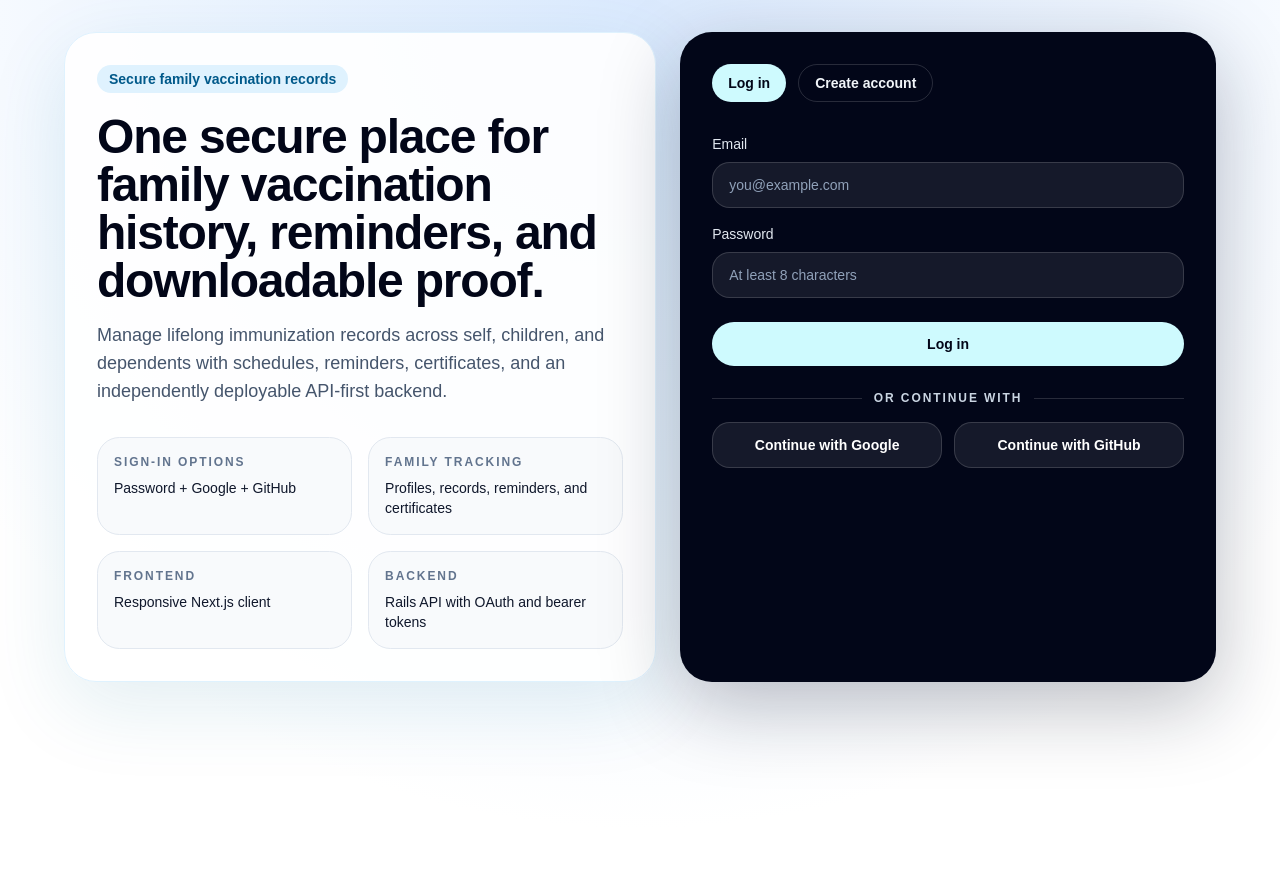
AuthShell › completes oauth sign-in from a popup message
This screenshot has width=1280, height=884.
What coordinates should you click on to do the following:
click the button "Continue with Google"
I would click on:
 (827, 445)
Its box is 712,422 -> 942,468.
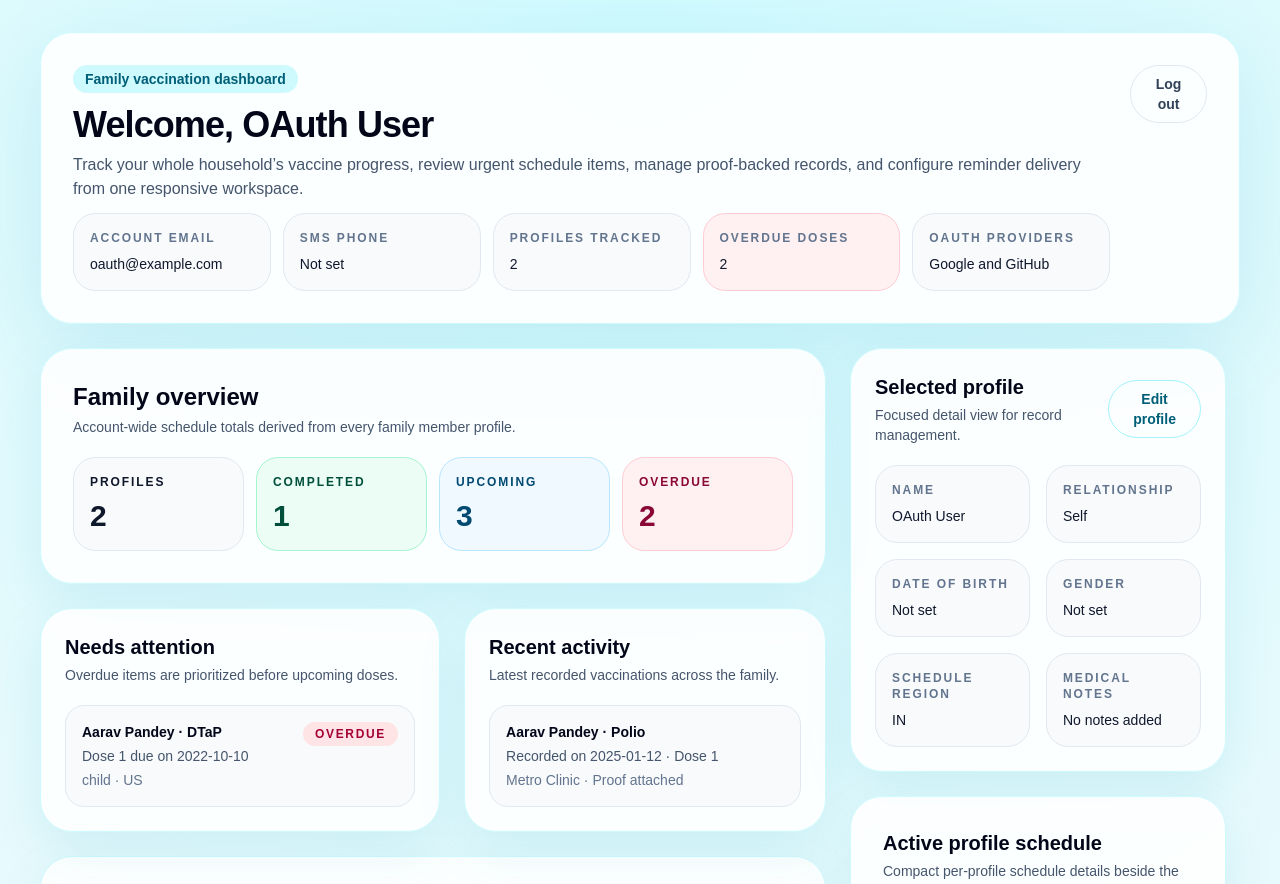
Result: the heading "Welcome, OAuth User" is shown at 73,104 -> 433,145
